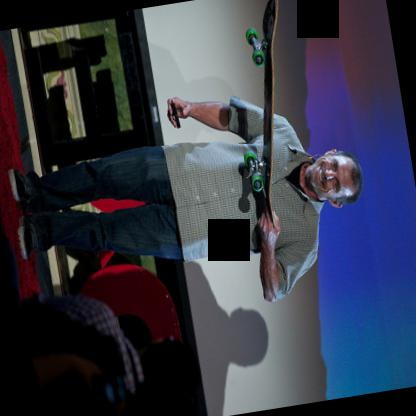backpack: (15, 290, 134, 416)
